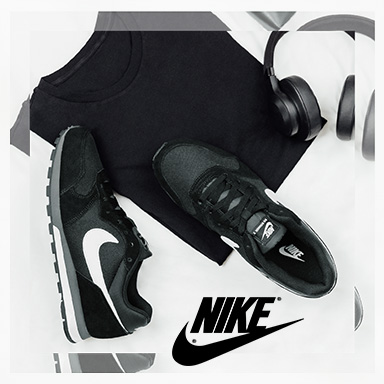nike: (89, 226, 124, 309)
